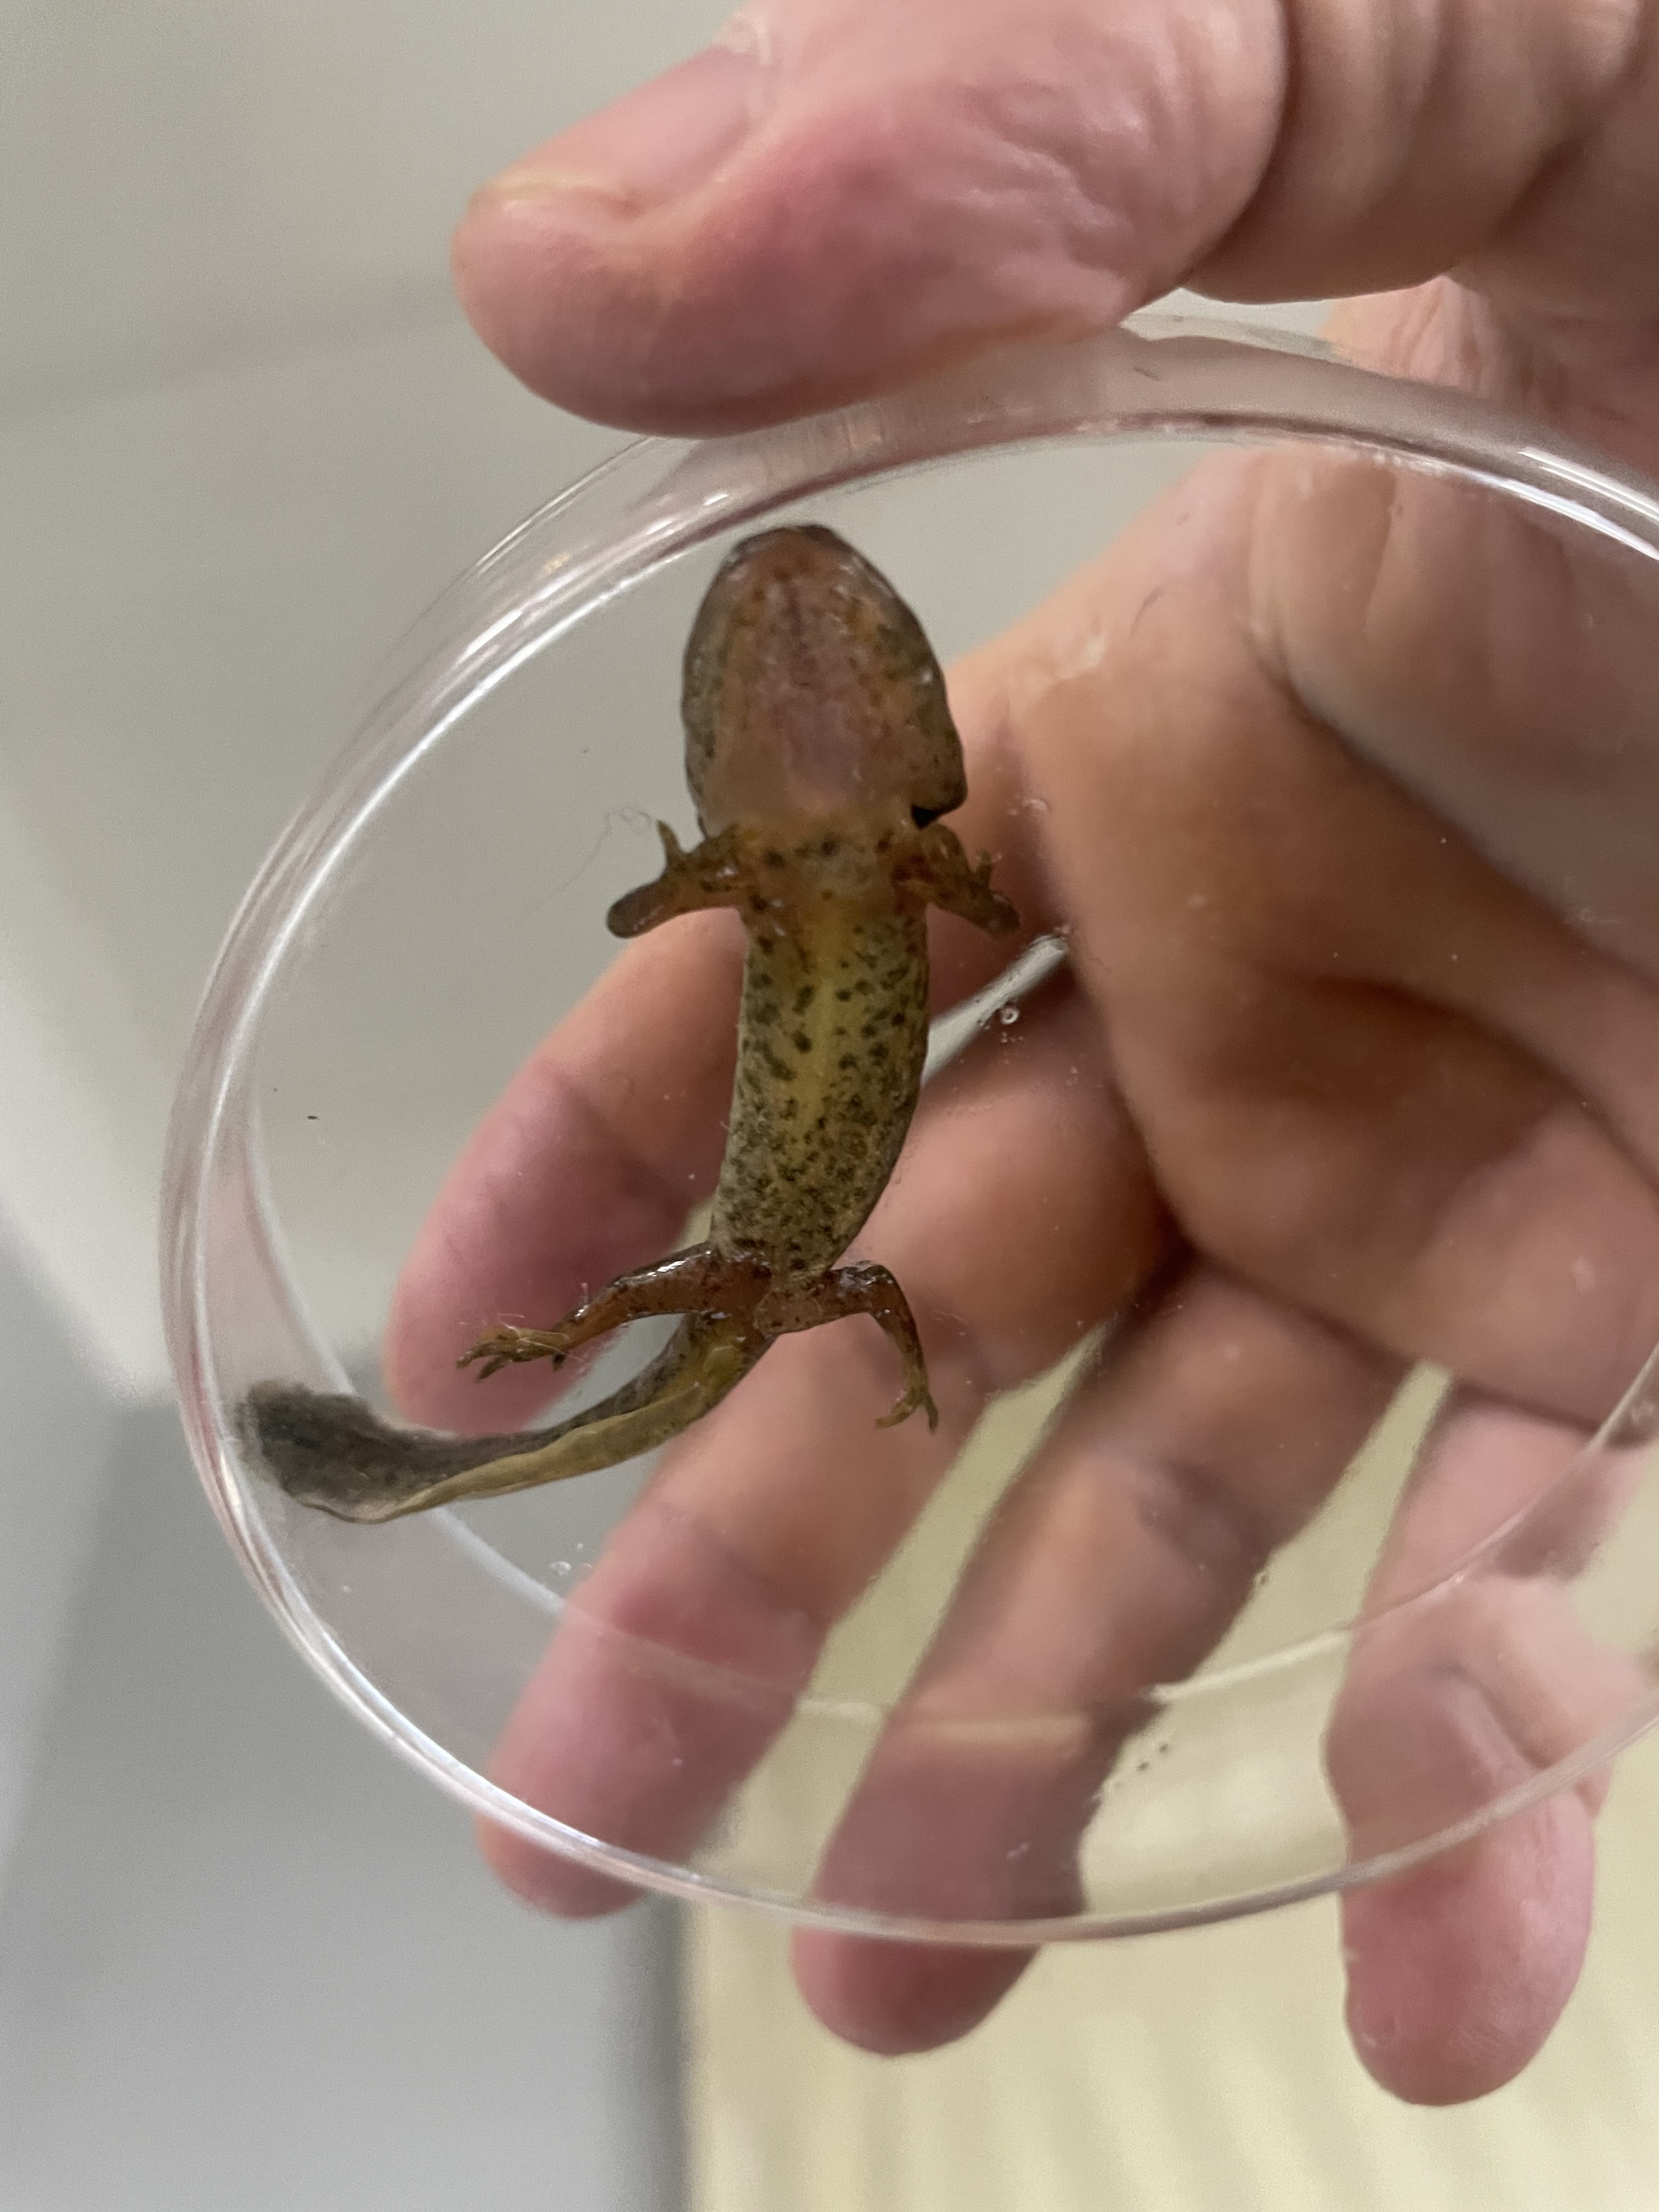newt_ribbed: (708, 900, 931, 1270)
